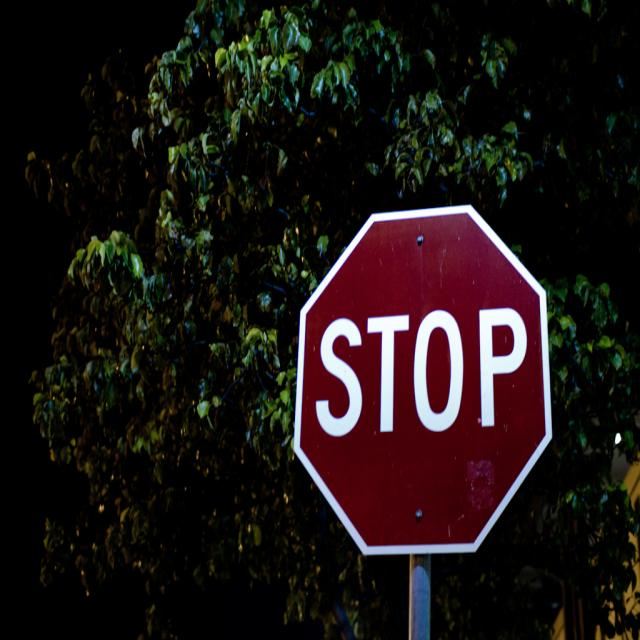Stop-sign: (294, 208, 549, 550)
